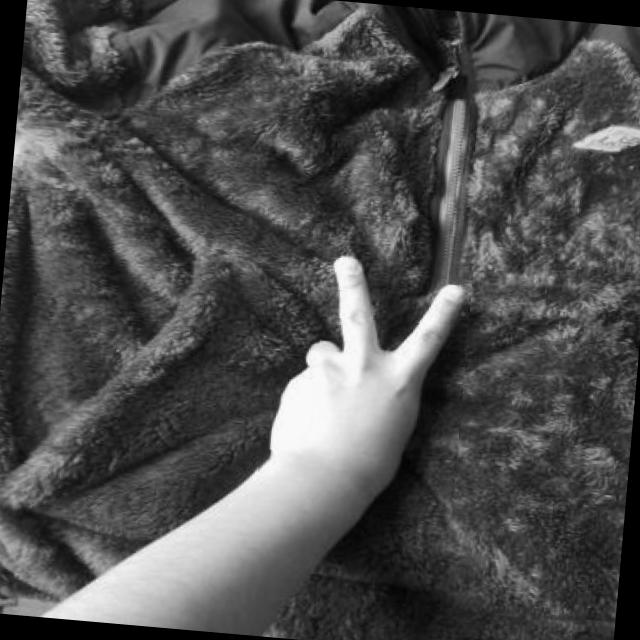V: (252, 247, 473, 520)
